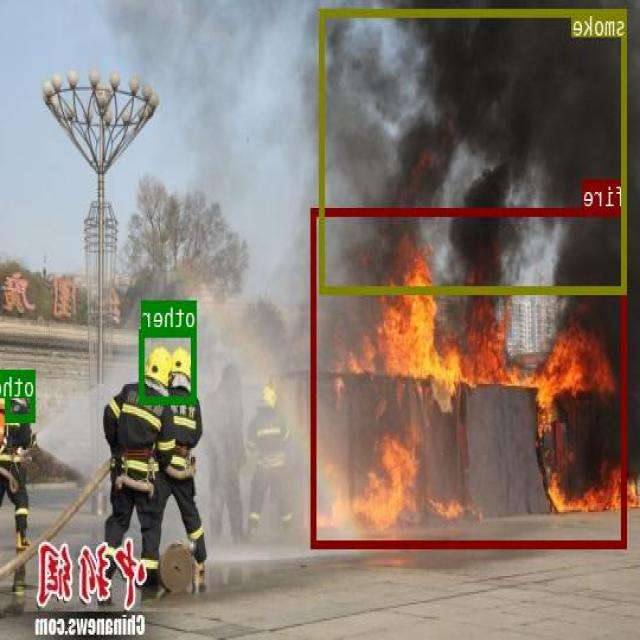fire: (312, 208, 627, 546)
other: (140, 327, 198, 403), (6, 369, 37, 421)
smoke: (320, 8, 628, 292)
